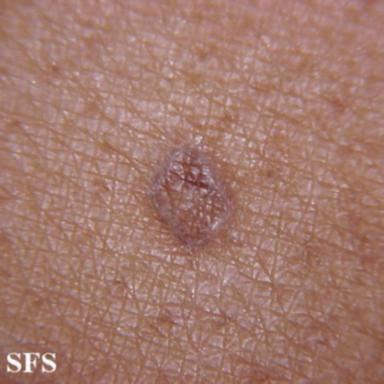Porokeratosis: (152, 147, 232, 245)
